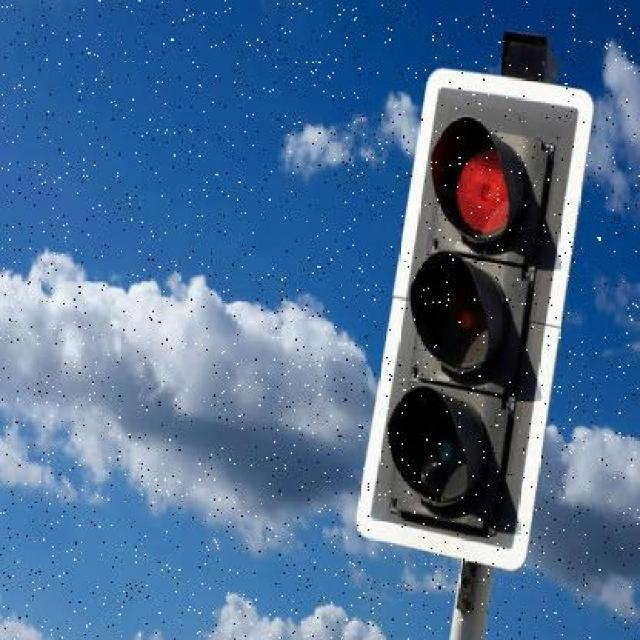red-light: (387, 77, 573, 547)
